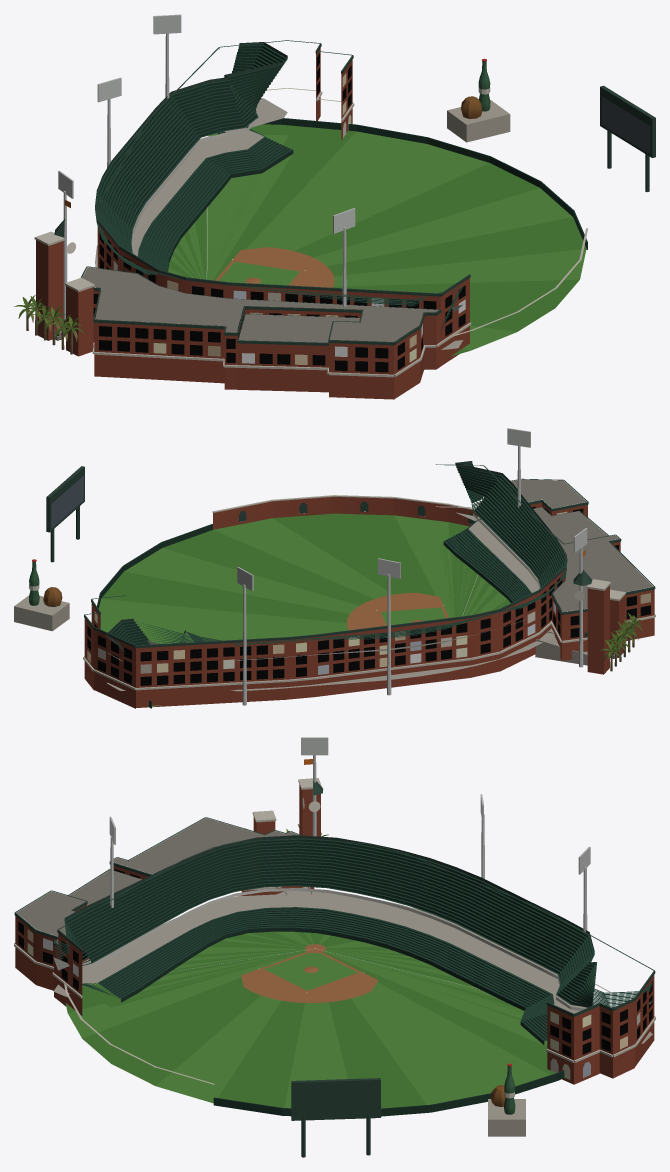
The model's file is oracle_lod1.glb.
The picture shows the model from 3 angles, top to bottom: view 1: azimuth 30°, elevation 25°; view 2: azimuth 150°, elevation 25°; view 3: azimuth 270°, elevation 25°; orthographic projection. The views are drawn at different scales.
Visible parts, largest first — view 1: L1_grass, L1_brickred, L1_paint, L1_metal, L1_roof, L1_paving, L1_stone, L1_neon, L1_leaf; view 2: L1_grass, L1_brickred, L1_metal, L1_paint, L1_roof, L1_paving, L1_stone, L1_neon, L1_leaf; view 3: L1_grass, L1_paint, L1_metal, L1_paving, L1_brickred, L1_roof, L1_stone.
Boxes of the visible parts, <box> form: L1_grass: <box>168,124,586,356</box>; L1_brickred: <box>36,48,469,399</box>; L1_paint: <box>95,45,587,330</box>; L1_metal: <box>54,14,655,372</box>; L1_roof: <box>82,267,438,342</box>; L1_paving: <box>59,98,463,349</box>; L1_stone: <box>34,88,588,377</box>; L1_neon: <box>601,96,650,153</box>; L1_leaf: <box>14,295,84,341</box>; L1_grass: <box>98,513,510,706</box>; L1_brickred: <box>84,497,654,708</box>; L1_metal: <box>46,428,655,705</box>; L1_paint: <box>29,463,567,708</box>; L1_roof: <box>511,479,653,611</box>; L1_paving: <box>107,512,587,691</box>; L1_stone: <box>14,495,655,690</box>; L1_neon: <box>51,475,83,528</box>; L1_leaf: <box>599,613,642,661</box>; L1_grass: <box>65,931,555,1108</box>; L1_paint: <box>53,838,652,1116</box>; L1_metal: <box>14,737,655,1157</box>; L1_paving: <box>53,886,652,1043</box>; L1_brickred: <box>15,785,654,1084</box>; L1_roof: <box>16,818,298,943</box>; L1_stone: <box>14,778,655,1136</box>.
Size of the model in its own units: 258 by 60.93 by 237.
